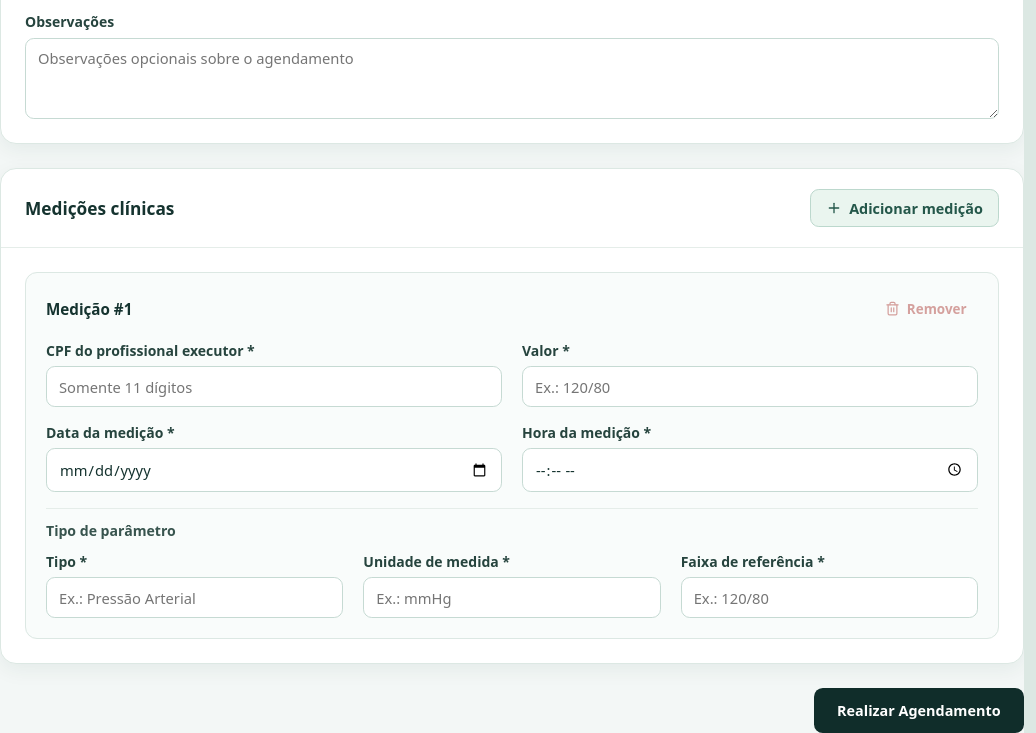
Scenario: RealizarAgendamento › limpa o erro do campo ao digitar nele
This screenshot has width=1036, height=733.
(page scrolled)
Click the button "Realizar Agendamento" at (919, 711), box [814, 688, 1024, 732]
(page scrolled)
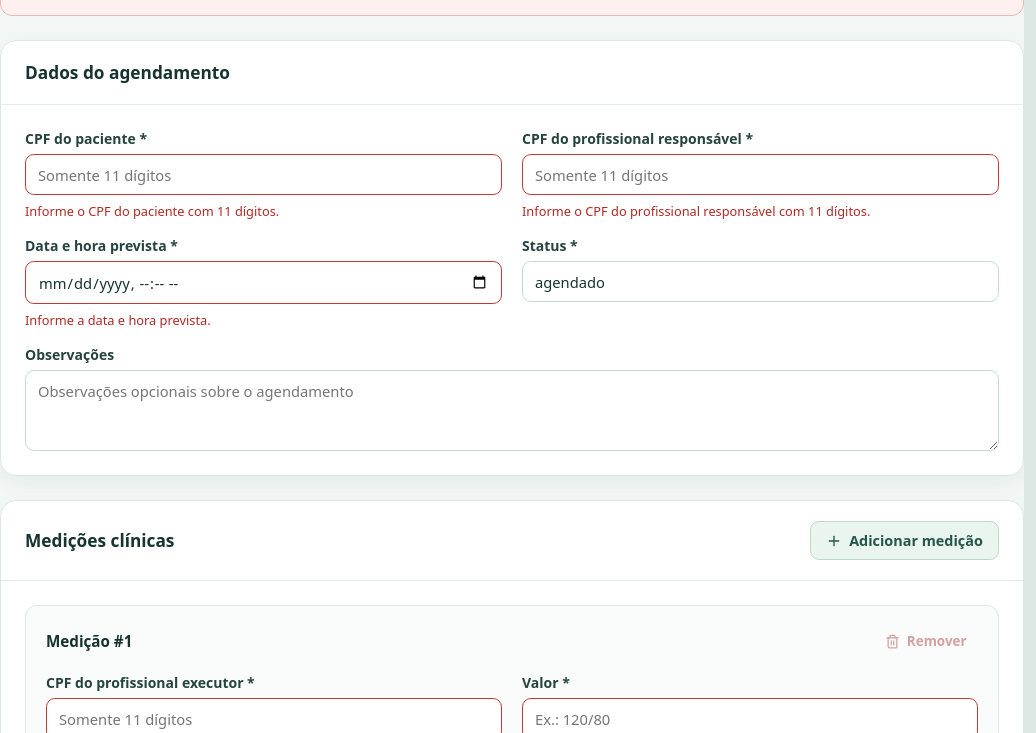
Now the text "Informe o CPF do paciente com 11 dígitos." is shown, box [25, 202, 279, 220]
Type "1" into the field labelled "CPF do paciente *" at (264, 175), box [25, 154, 502, 195]
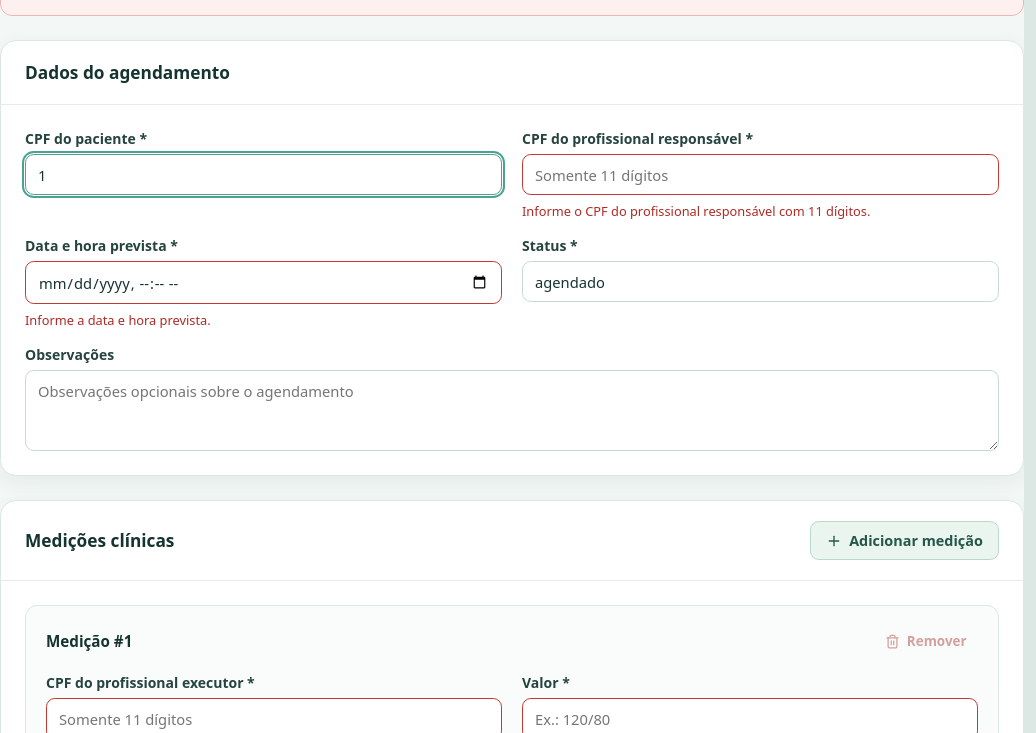
Now the text "Informe o CPF do paciente com 11 dígitos." is gone
